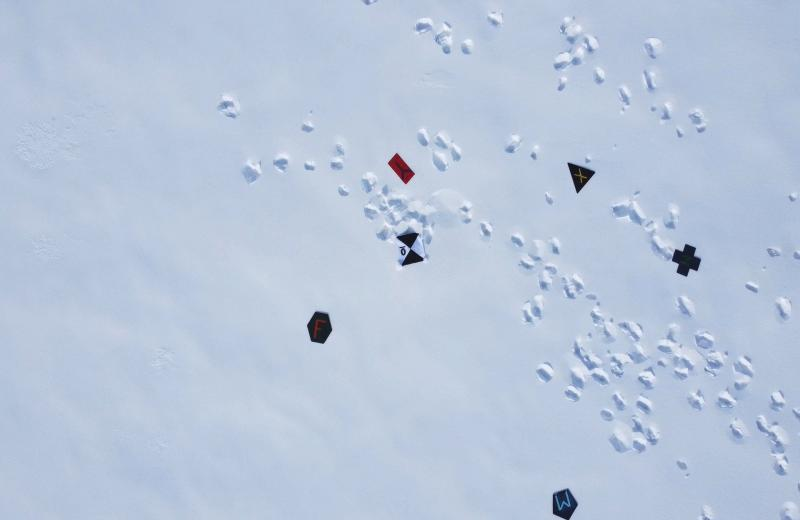Cross: (669, 241, 702, 279)
Hexagon: (303, 308, 335, 346)
Pentagon: (547, 481, 581, 520)
Rectangle: (387, 150, 415, 187)
Triangle: (565, 159, 597, 197)
